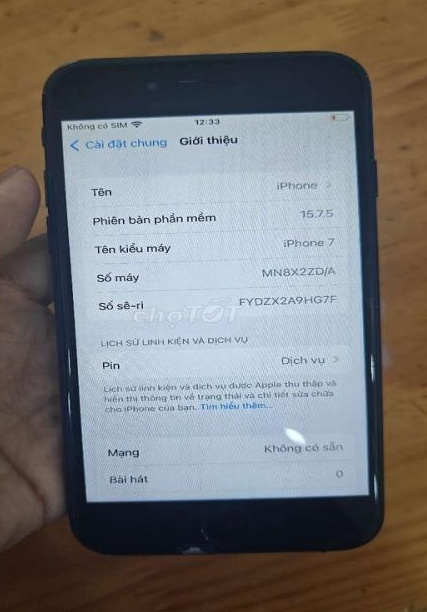scratch: (47, 342, 81, 374), (46, 50, 89, 71), (53, 389, 81, 420), (361, 349, 382, 386), (366, 466, 383, 501)
